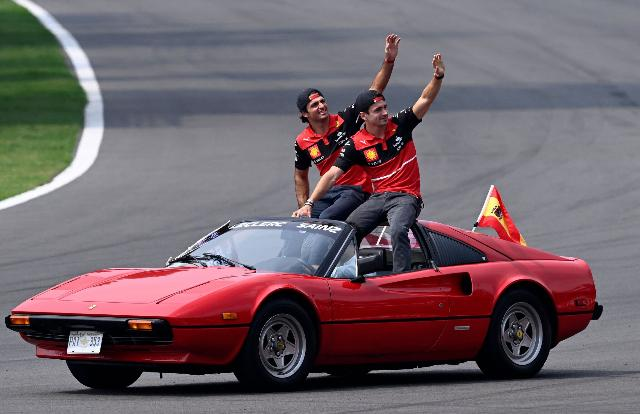ferrari: (3, 216, 604, 392)
